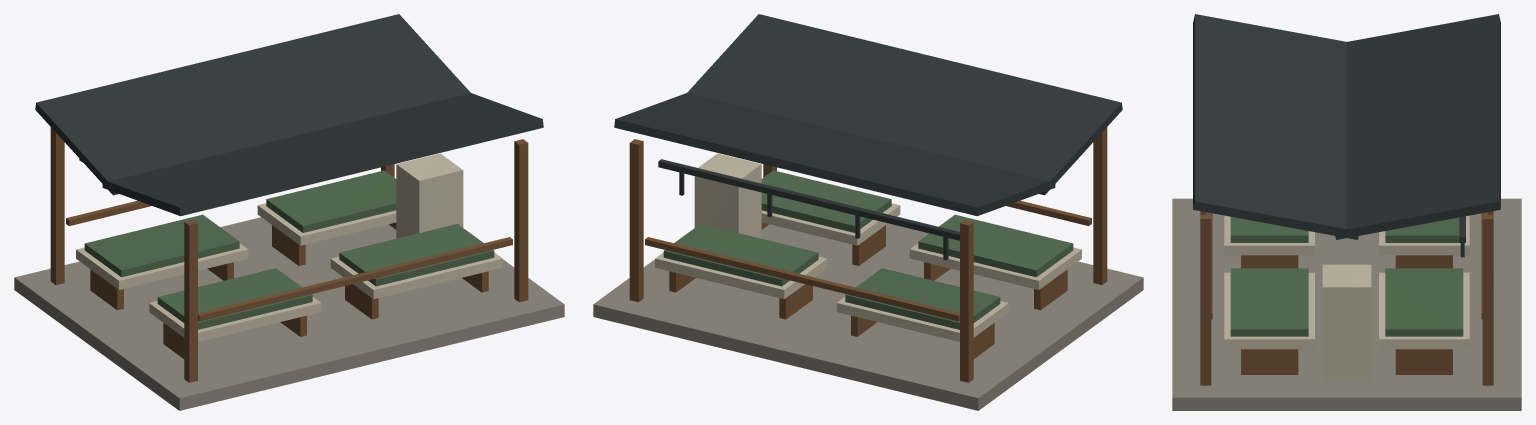
File: Tree-Nursery.glb
3 renders of one model, left to right at view 1: azimuth 30°, elevation 25°; view 2: azimuth 150°, elevation 25°; view 3: azimuth 270°, elevation 25°, orthographic. The views are drawn at different scales.
Parts seen in each view (by area): view 1: tree-nursery-static-tree-nursery-charcoal-roof-pipe, tree-nursery-static-tree-nursery-pale-stone-slab, tree-nursery-static-tree-nursery-muted-green-seedling-trays, tree-nursery-static-tree-nursery-warm-timber-frame, tree-nursery-static-tree-nursery-cream-benches-cabinet; view 2: tree-nursery-static-tree-nursery-charcoal-roof-pipe, tree-nursery-static-tree-nursery-pale-stone-slab, tree-nursery-static-tree-nursery-muted-green-seedling-trays, tree-nursery-static-tree-nursery-warm-timber-frame, tree-nursery-static-tree-nursery-cream-benches-cabinet; view 3: tree-nursery-static-tree-nursery-charcoal-roof-pipe, tree-nursery-static-tree-nursery-pale-stone-slab, tree-nursery-static-tree-nursery-muted-green-seedling-trays, tree-nursery-static-tree-nursery-cream-benches-cabinet, tree-nursery-static-tree-nursery-warm-timber-frame.
Boxes of the visible parts, <box> form: tree-nursery-static-tree-nursery-charcoal-roof-pipe: <box>35,14,543,216</box>; tree-nursery-static-tree-nursery-pale-stone-slab: <box>14,217,564,410</box>; tree-nursery-static-tree-nursery-muted-green-seedling-trays: <box>84,170,494,329</box>; tree-nursery-static-tree-nursery-warm-timber-frame: <box>50,127,528,382</box>; tree-nursery-static-tree-nursery-cream-benches-cabinet: <box>76,153,502,341</box>; tree-nursery-static-tree-nursery-charcoal-roof-pipe: <box>614,14,1122,260</box>; tree-nursery-static-tree-nursery-pale-stone-slab: <box>593,223,1143,410</box>; tree-nursery-static-tree-nursery-muted-green-seedling-trays: <box>663,170,1073,329</box>; tree-nursery-static-tree-nursery-warm-timber-frame: <box>629,127,1107,382</box>; tree-nursery-static-tree-nursery-cream-benches-cabinet: <box>655,153,1081,341</box>; tree-nursery-static-tree-nursery-charcoal-roof-pipe: <box>1193,14,1500,257</box>; tree-nursery-static-tree-nursery-pale-stone-slab: <box>1172,198,1521,410</box>; tree-nursery-static-tree-nursery-muted-green-seedling-trays: <box>1230,217,1463,336</box>; tree-nursery-static-tree-nursery-cream-benches-cabinet: <box>1224,215,1469,381</box>; tree-nursery-static-tree-nursery-warm-timber-frame: <box>1200,211,1493,385</box>.
Size of the model in its own units: 7 by 3.35 by 5.2.
